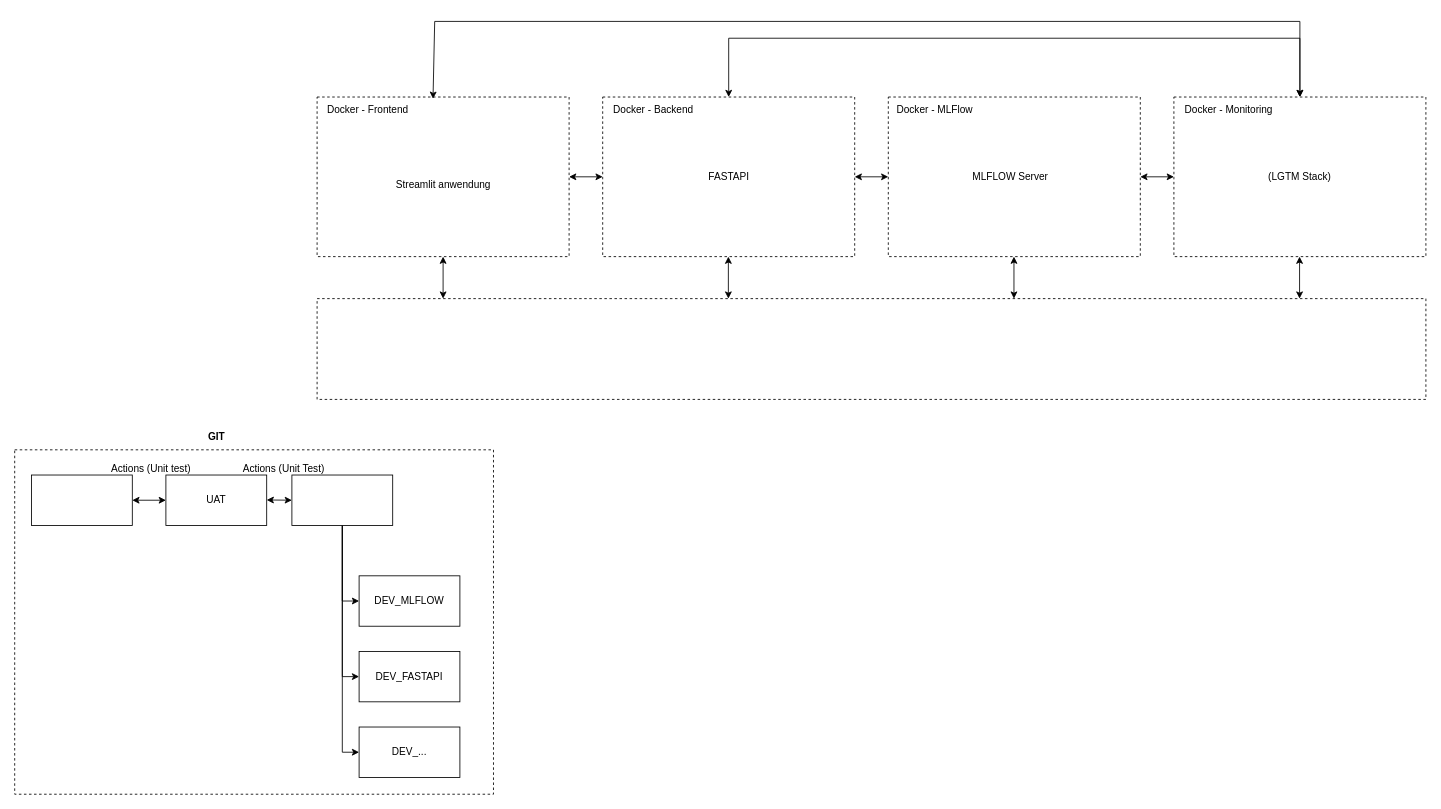
This 1441x809 diagram has some shape labels left out. Each missing label, with the centre of its shape:
"Central Storage" goes at pixel 871 348.
"DEV" goes at pixel 342 499.
"main" goes at pixel 81 499.
